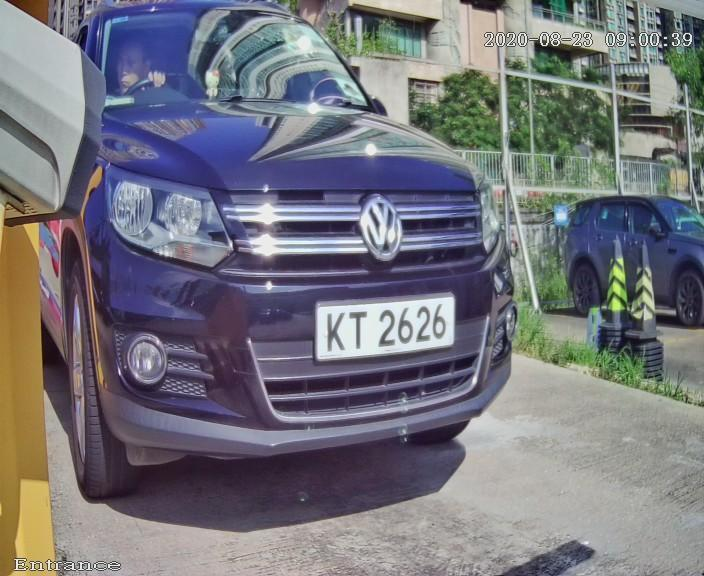Car: (23, 1, 547, 528)
License Plate: (287, 264, 470, 389)
